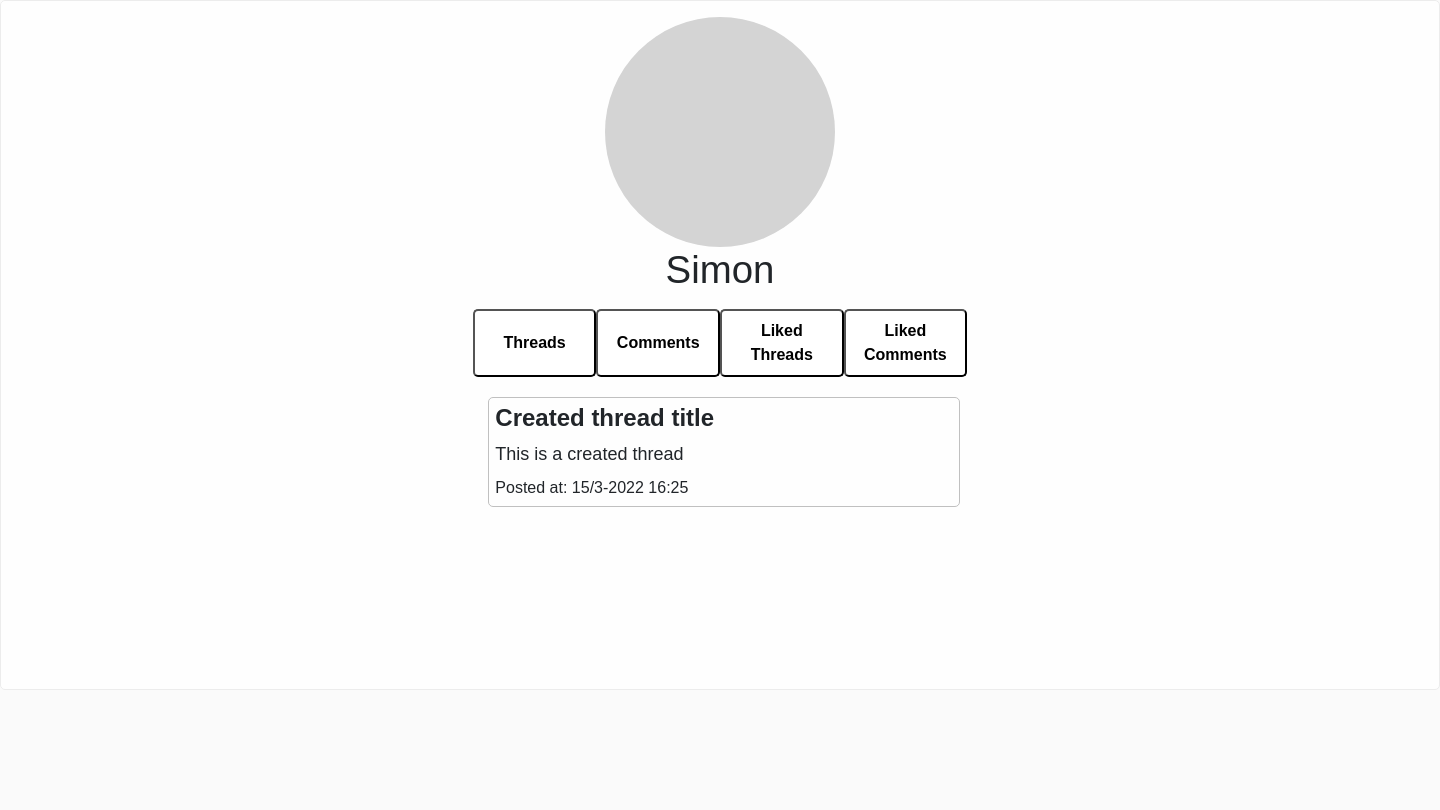
Test: Clicking liked threads shows threads liked by the owner.
Check: the text "This is a created thread" is shown, box [495,444,683,464]
Click the button "Liked Threads" at [782, 343], box [720,309,844,377]
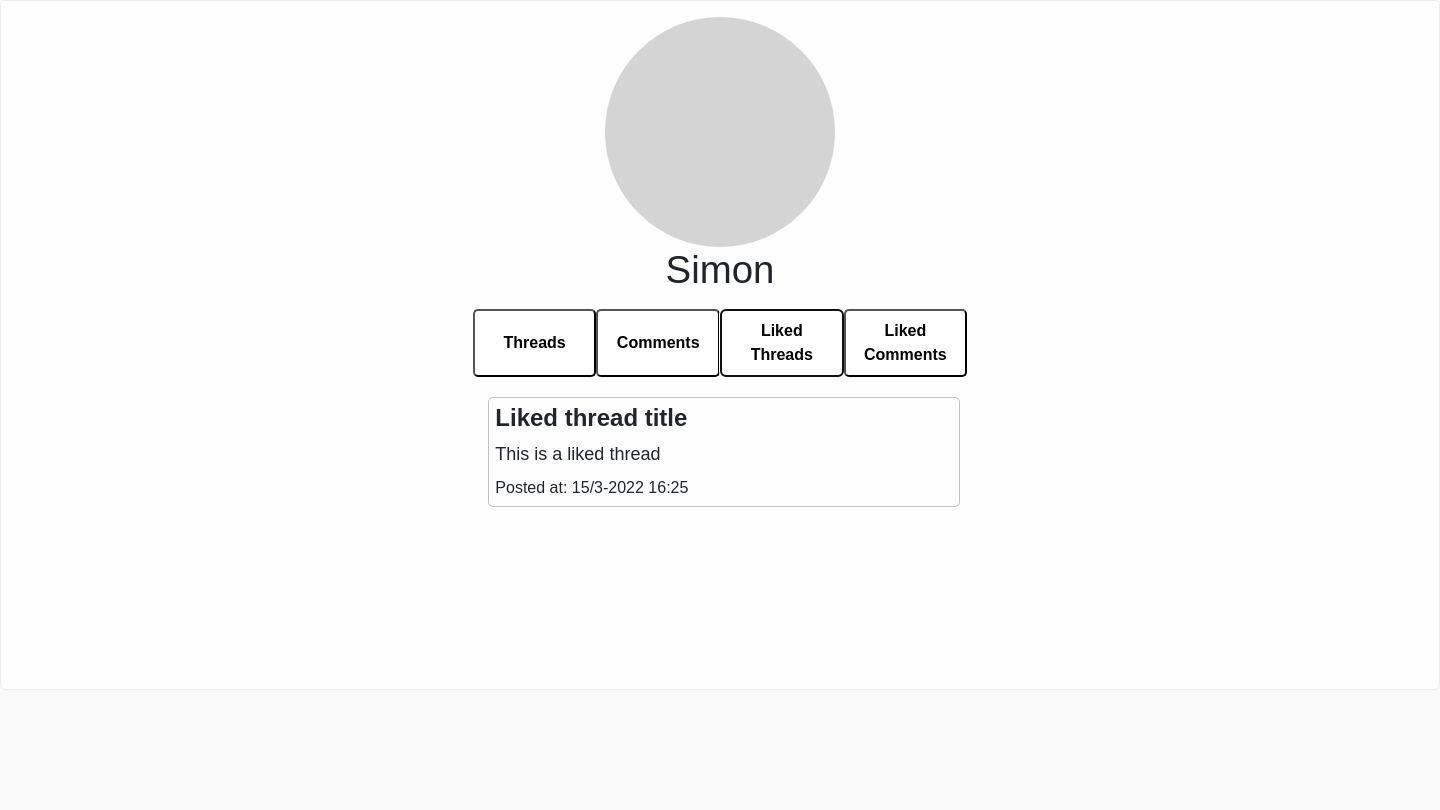
Check: the text "This is a liked thread" is shown, box [495,444,660,464]
Check: the link "This is a created thread" is gone
